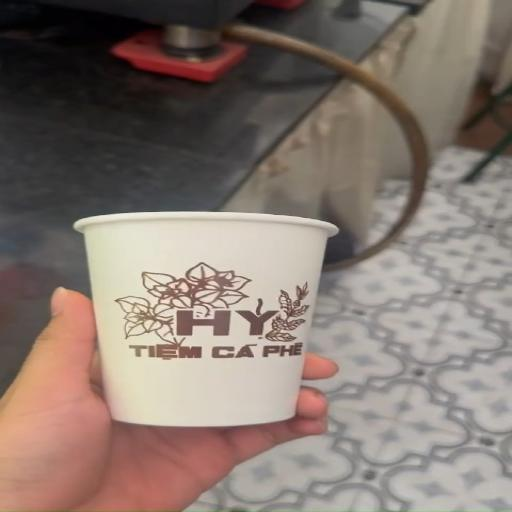Ly_giay: (75, 212, 337, 427)
